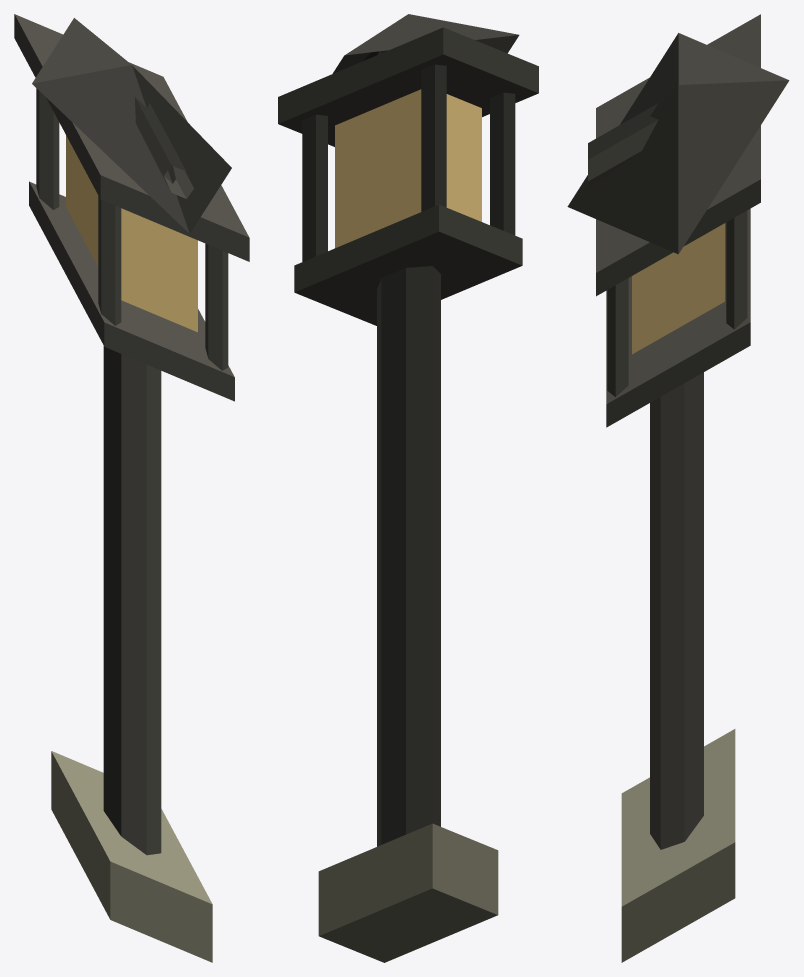
3 views of the same model, side by side, from view 1: azimuth 30°, elevation 25°; view 2: azimuth 150°, elevation 25°; view 3: azimuth 270°, elevation 25° (orthographic). The views are drawn at different scales.
Parts seen in each view (by area): view 1: efb473aa7aecb0049d2cde527f5bafefbf767e2e3b1f9a010b89c7d2e83e; view 2: efb473aa7aecb0049d2cde527f5bafefbf767e2e3b1f9a010b89c7d2e83e; view 3: efb473aa7aecb0049d2cde527f5bafefbf767e2e3b1f9a010b89c7d2e83e.
Part boxes in pixels (x1,y1,x2,y2): efb473aa7aecb0049d2cde527f5bafefbf767e2e3b1f9a010b89c7d2e83e: (14, 14, 249, 962); efb473aa7aecb0049d2cde527f5bafefbf767e2e3b1f9a010b89c7d2e83e: (278, 14, 538, 962); efb473aa7aecb0049d2cde527f5bafefbf767e2e3b1f9a010b89c7d2e83e: (567, 14, 789, 962).
Size of the model in its own units: 0.86 by 3.8 by 0.86.
Materials: 2 (1 with a texture image).
